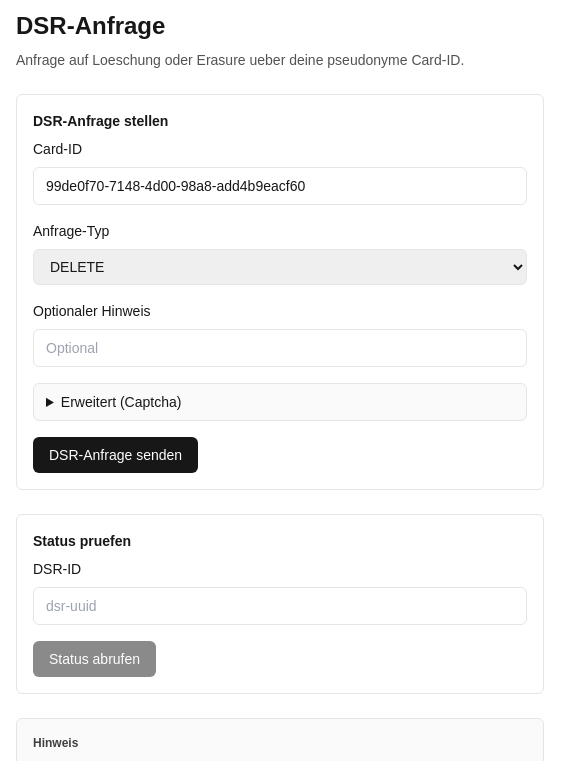
Scenario: PwaDsrPage › shows a German network error message when service is unreachable
This screenshot has width=561, height=761.
Replace the text in the field labelled "Card-ID" with "card-999" at (280, 186), box [33,167,527,205]
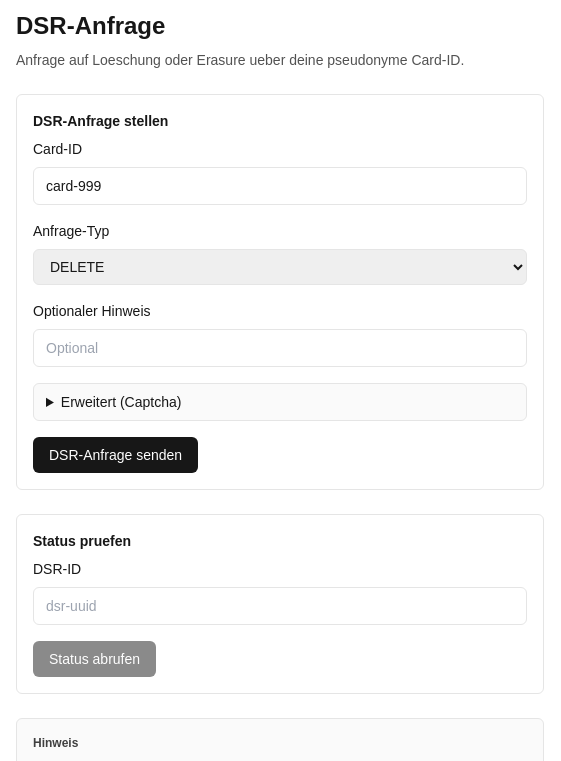
Click the button "DSR-Anfrage senden" at (116, 455), box [33,437,198,473]
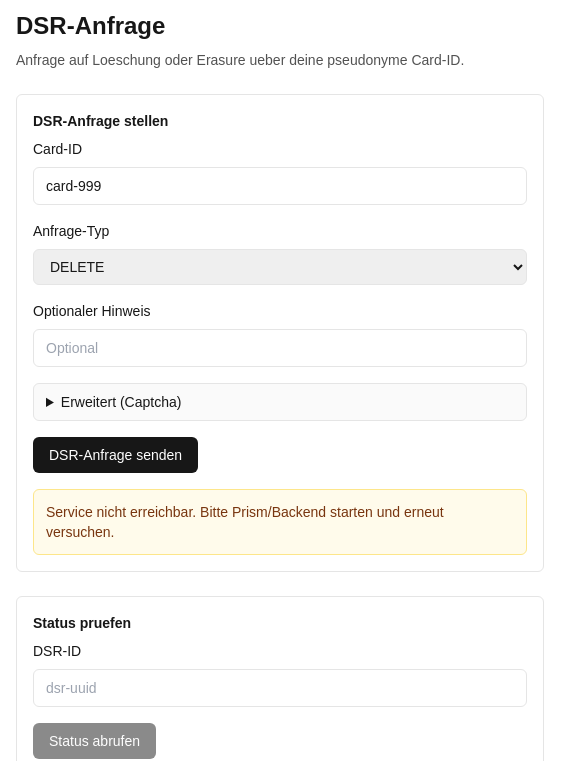
expect the text "Service nicht erreichbar. Bitte Prism/Backend starten und erneut versuchen." is shown: met, box [33,489,527,555]
